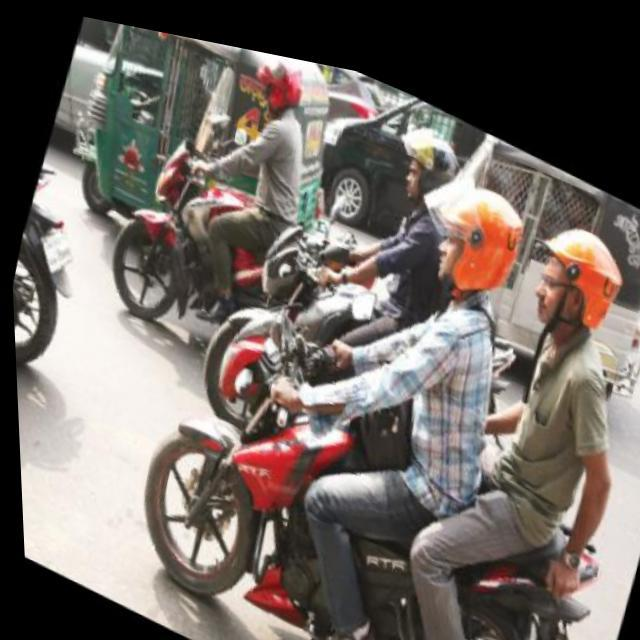Helmet: (408, 175, 528, 302), (529, 216, 628, 338)
